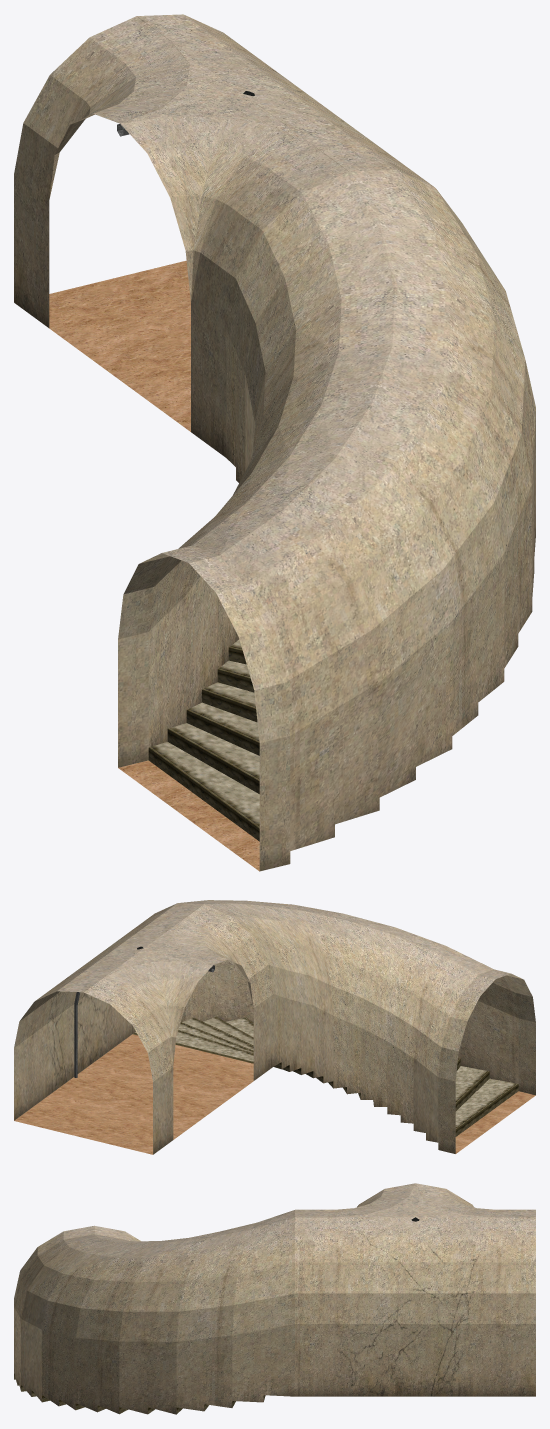
File: thm_tato_jabbas_palace_r21_stairs5_mesh_r21.fbx
3 renders of one model, top to bottom at view 1: azimuth 30°, elevation 25°; view 2: azimuth 150°, elevation 25°; view 3: azimuth 270°, elevation 25°, orthographic. The views are drawn at different scales.
Parts seen in each view (by area): view 1: mesh_node; view 2: mesh_node; view 3: mesh_node.
Part boxes in pixels (bbox=[...]): mesh_node: bbox=[14, 14, 535, 871]; mesh_node: bbox=[14, 900, 535, 1154]; mesh_node: bbox=[14, 1183, 535, 1414].
Size of the model in its own units: 7.5 by 6.8 by 13.
